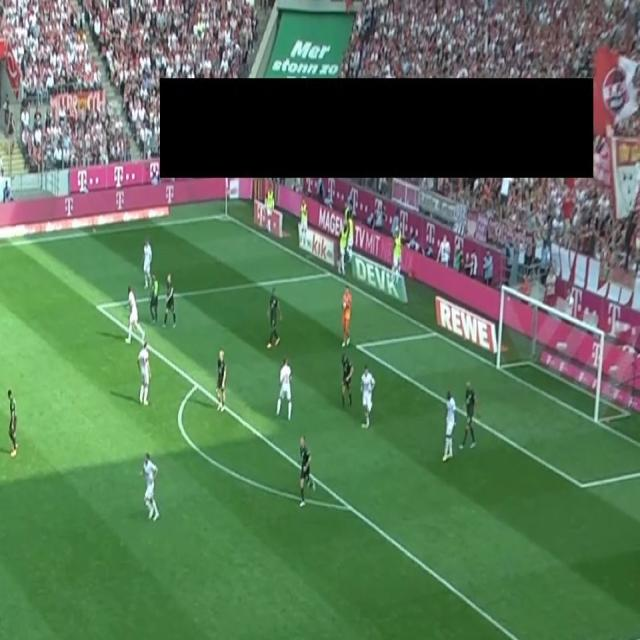ball: (342, 301, 347, 311)
